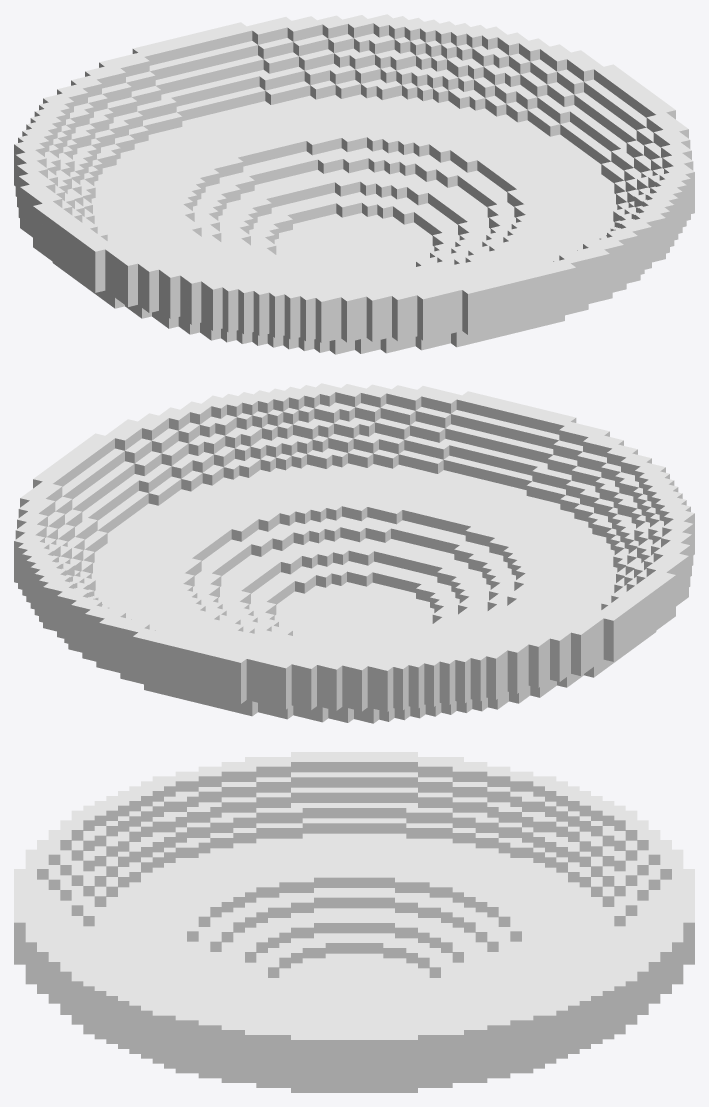
The model's file is osara1.fbx.
3 renders of one model, top to bottom at view 1: azimuth 30°, elevation 25°; view 2: azimuth 150°, elevation 25°; view 3: azimuth 270°, elevation 25°, orthographic.
Parts seen in each view (by area): view 1: ObjObject.005; view 2: ObjObject.005; view 3: ObjObject.005.
Boxes of the visible parts, x1,y1,x2,y2 form: ObjObject.005: (14, 14, 694, 354); ObjObject.005: (14, 383, 694, 723); ObjObject.005: (14, 752, 694, 1092).
Size of the model in its own units: 590 by 120 by 590.
Materials: 1 (1 with a texture image).
